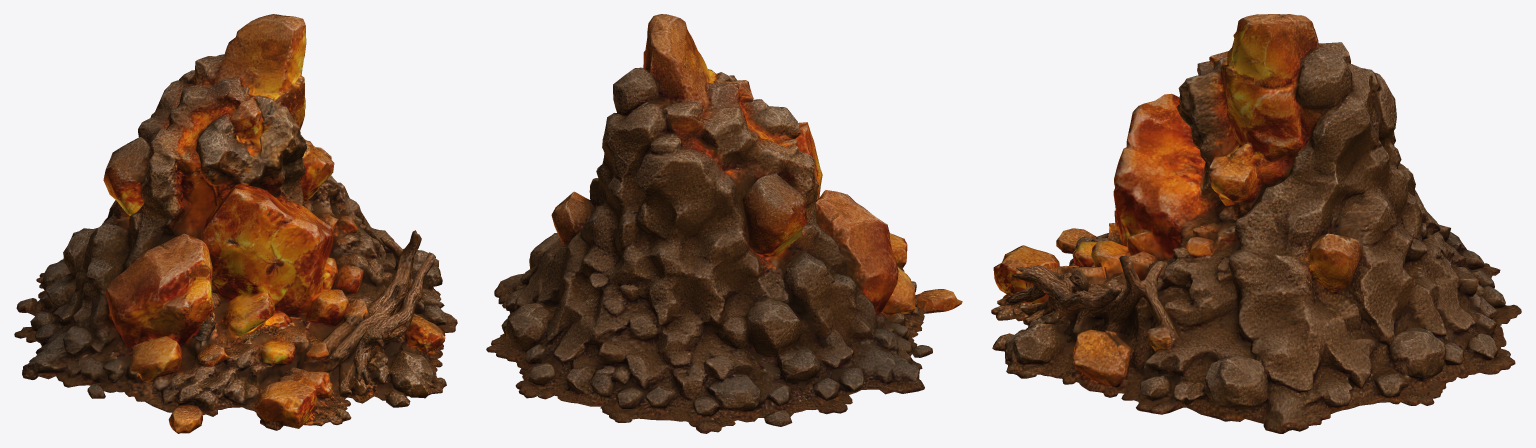
Rendered from Янтарная жила.glb.
3 views of the same model, side by side, from view 1: azimuth 30°, elevation 25°; view 2: azimuth 150°, elevation 25°; view 3: azimuth 270°, elevation 25° (orthographic). The views are drawn at different scales.
Parts seen in each view (by area): view 1: tripo_node_0433c1b6-5822-4649-9ccc-560c79beb162; view 2: tripo_node_0433c1b6-5822-4649-9ccc-560c79beb162; view 3: tripo_node_0433c1b6-5822-4649-9ccc-560c79beb162.
Boxes of the visible parts, bbox=[...] form: tripo_node_0433c1b6-5822-4649-9ccc-560c79beb162: bbox=[14, 14, 457, 433]; tripo_node_0433c1b6-5822-4649-9ccc-560c79beb162: bbox=[486, 14, 962, 433]; tripo_node_0433c1b6-5822-4649-9ccc-560c79beb162: bbox=[991, 14, 1521, 433].
Size of the model in its own units: 1 by 0.6904 by 0.9832.
1 material, 1 textured.
